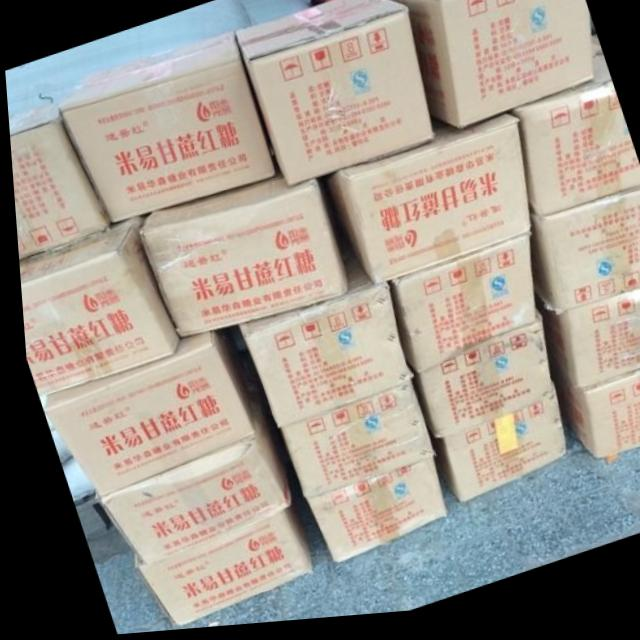box: (56, 34, 273, 221), (89, 366, 281, 566), (235, 0, 430, 193), (40, 328, 245, 501), (322, 117, 526, 288), (232, 241, 405, 429), (140, 180, 342, 335), (374, 0, 592, 137), (15, 216, 174, 395), (503, 41, 640, 223), (129, 490, 301, 629), (379, 238, 530, 382), (270, 380, 425, 503), (405, 324, 548, 450), (418, 399, 560, 510), (7, 105, 107, 258), (294, 461, 438, 567), (527, 196, 640, 321), (532, 294, 640, 398), (546, 377, 640, 469)
